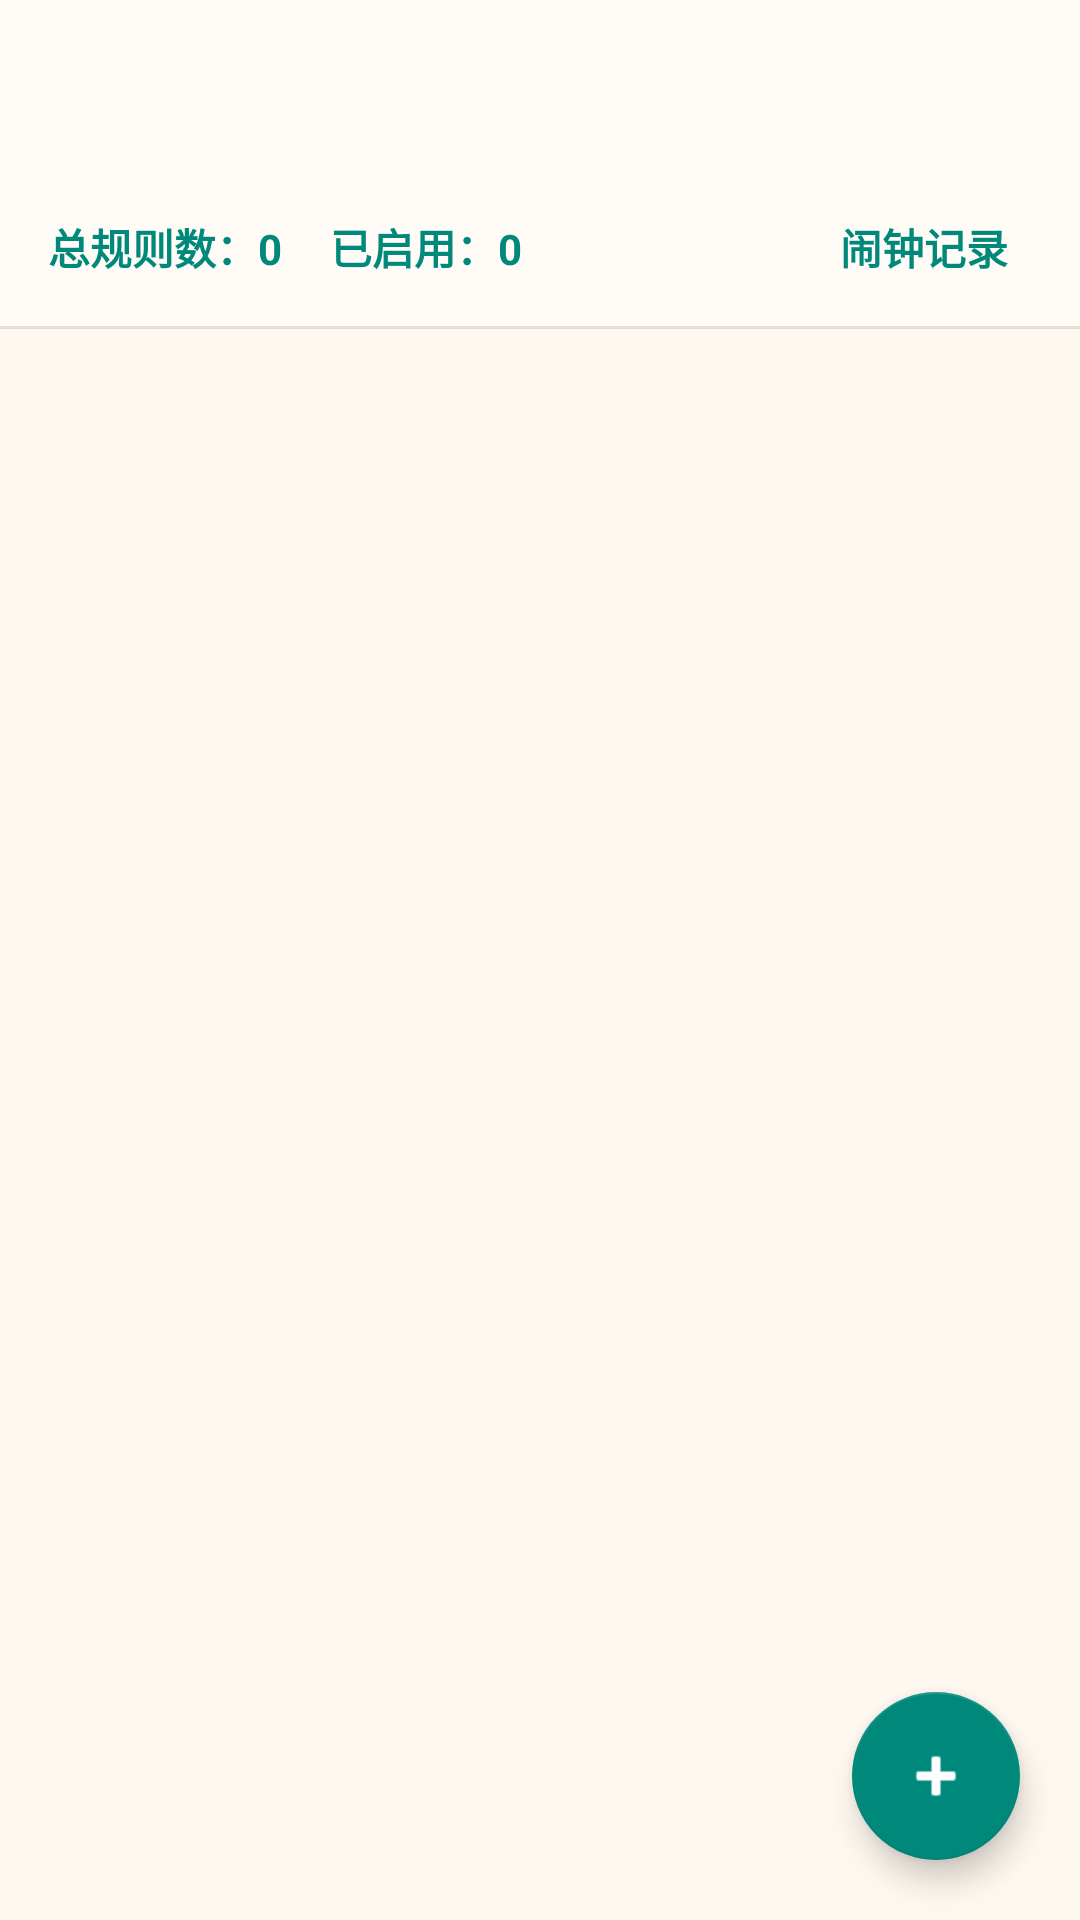

Locate icon controls on the screen. Image size 1080w x 1920h, boxes as (x1, y1, x2, y2).
添加规则: (852, 1692, 1020, 1860)
